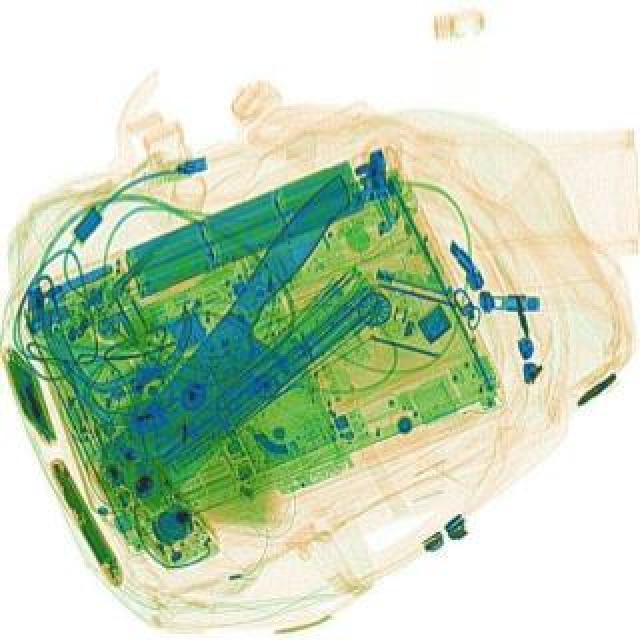knife: (84, 164, 412, 520)
